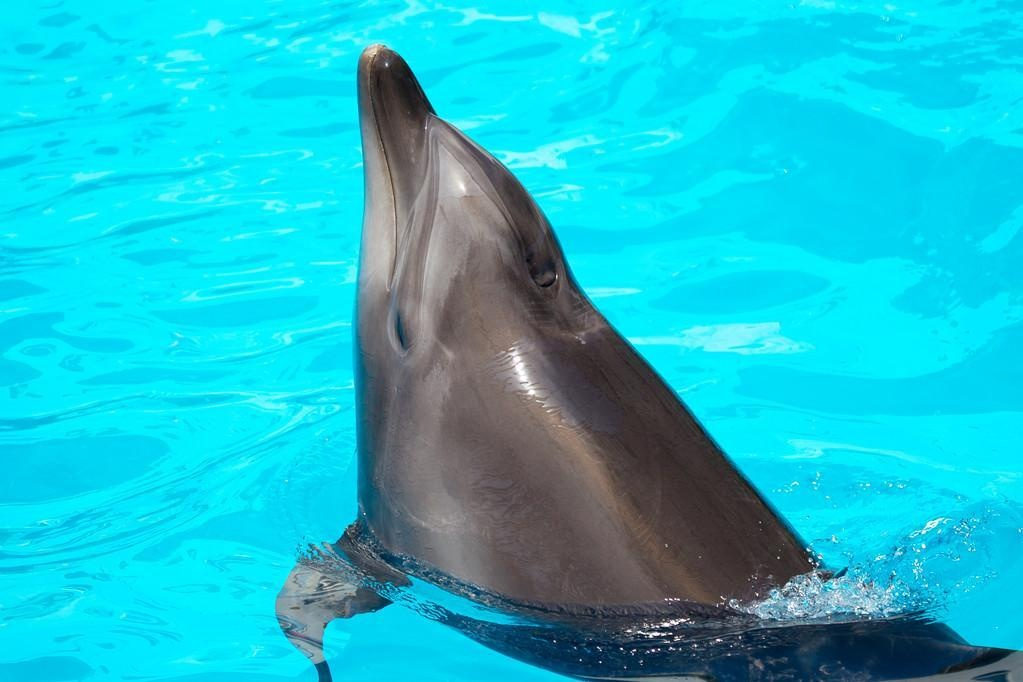fish: (273, 44, 1005, 680)
